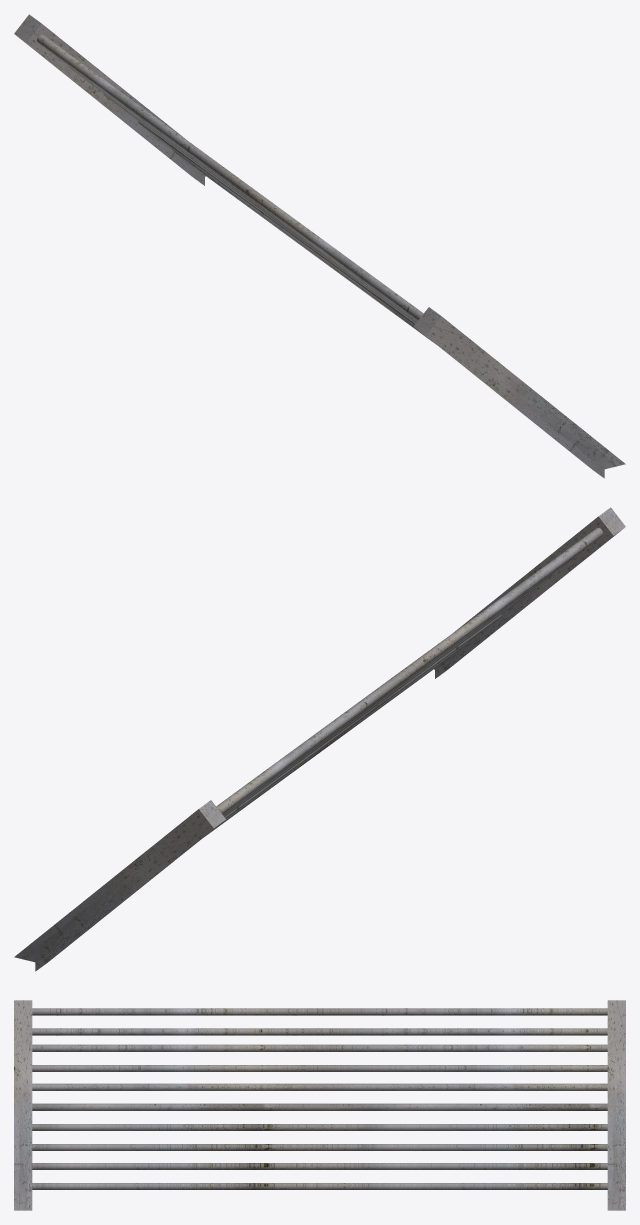
Rendered from barbs.FBX.
3 views of the same model, one above another, from view 1: azimuth 30°, elevation 25°; view 2: azimuth 150°, elevation 25°; view 3: azimuth 270°, elevation 25° (orthographic). The views are drawn at different scales.
Parts seen in each view (by area): view 1: Box006, Cylinder028, Box004, Cylinder022, Cylinder026, Cylinder024; view 2: Box004, Cylinder028, Box006, Cylinder022, Cylinder026, Cylinder024; view 3: Cylinder028, Cylinder029, Cylinder024, Cylinder026, Cylinder027, Cylinder025, Cylinder021, Cylinder023, Cylinder020, Cylinder022, Box004, Box006.
Part boxes in pixels (left/top/right/bottom): Box006: left=414, top=307, right=625, bottom=478; Cylinder028: left=37, top=35, right=423, bottom=320; Box004: left=14, top=14, right=205, bottom=185; Cylinder022: left=138, top=121, right=415, bottom=325; Cylinder026: left=103, top=94, right=416, bottom=323; Cylinder024: left=69, top=67, right=417, bottom=321; Box004: left=14, top=800, right=225, bottom=971; Cylinder028: left=216, top=528, right=602, bottom=813; Box006: left=434, top=507, right=625, bottom=678; Cylinder022: left=224, top=614, right=501, bottom=818; Cylinder026: left=223, top=587, right=536, bottom=816; Cylinder024: left=222, top=560, right=570, bottom=814; Cylinder028: left=32, top=1008, right=607, bottom=1015; Cylinder029: left=32, top=1028, right=607, bottom=1035; Cylinder024: left=32, top=1044, right=607, bottom=1051; Cylinder026: left=32, top=1083, right=607, bottom=1090; Cylinder027: left=32, top=1103, right=607, bottom=1110; Cylinder025: left=32, top=1065, right=607, bottom=1071; Cylinder021: left=32, top=1163, right=607, bottom=1169; Cylinder023: left=32, top=1144, right=607, bottom=1150; Cylinder020: left=32, top=1183, right=607, bottom=1189; Cylinder022: left=32, top=1124, right=607, bottom=1130; Box004: left=607, top=1000, right=625, bottom=1210; Box006: left=14, top=1000, right=32, bottom=1210.
Bounding box in the file's own units: 2.8 × 2.71 × 10.
Materials: 1 (1 with a texture image).
